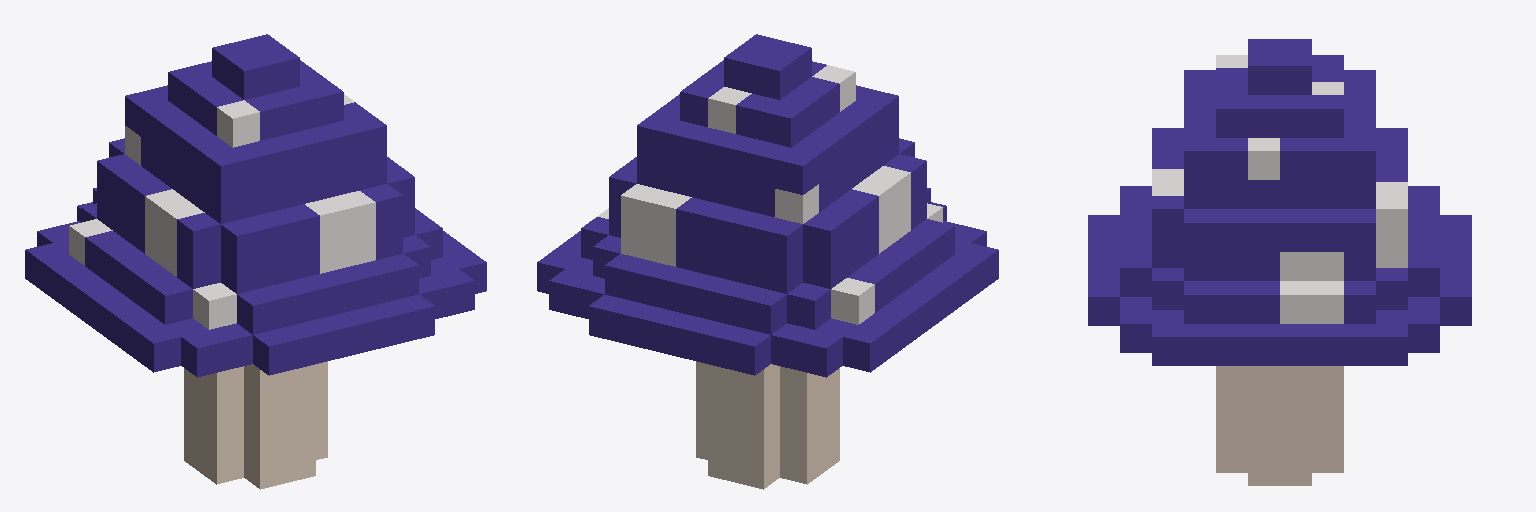
3 views of the same model, side by side, from view 1: azimuth 30°, elevation 25°; view 2: azimuth 150°, elevation 25°; view 3: azimuth 270°, elevation 25° (orthographic).
Visible parts, largest first — view 1: object 1; view 2: object 1; view 3: object 1.
Boxes of the visible parts, <box> form: object 1: <box>25,34,486,489</box>; object 1: <box>537,34,998,489</box>; object 1: <box>1088,39,1471,485</box>.
Size of the model in its own units: 1.2 by 1.4 by 1.2.
1 materials, 1 textured.